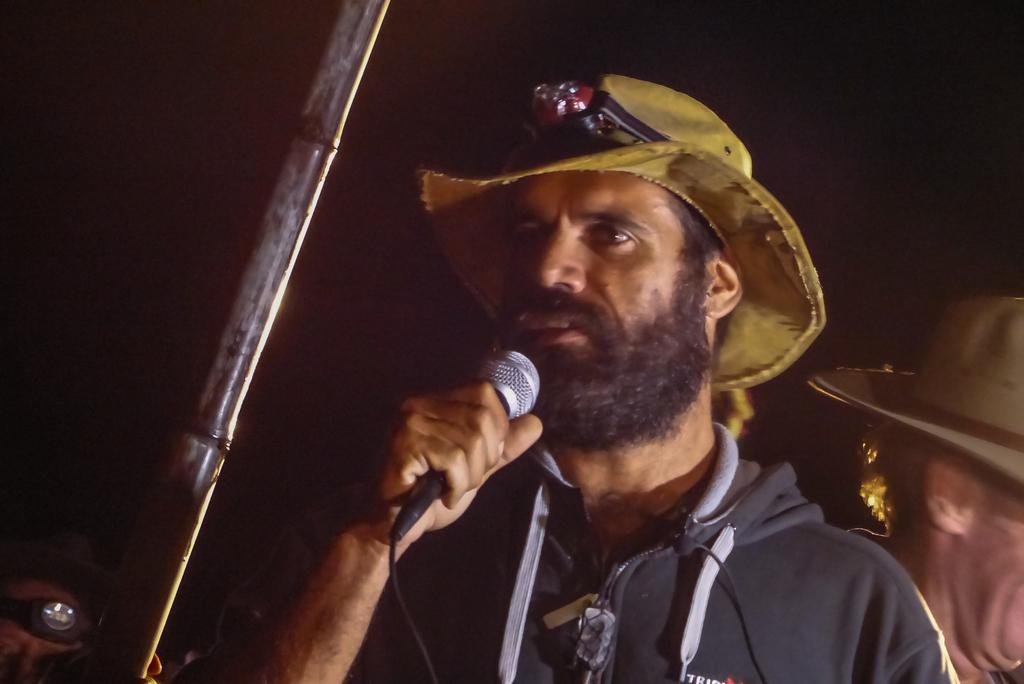Hat: (413, 68, 825, 391), (808, 298, 1022, 483)
